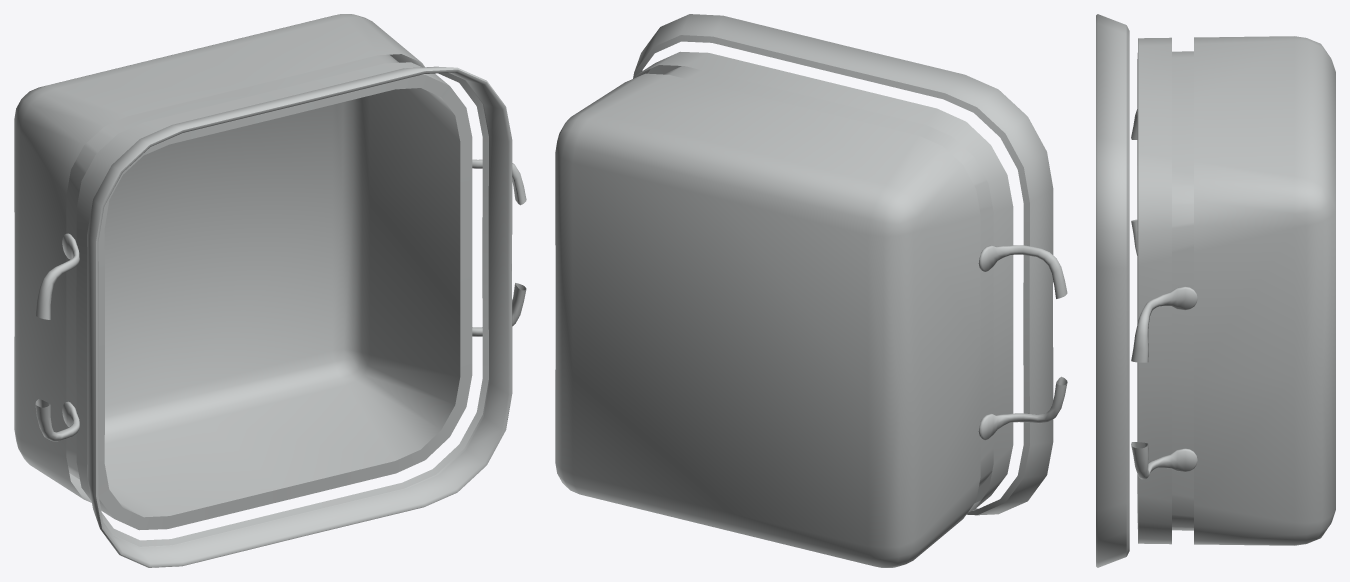
Rendered from MeshPot_28_0_GeomSubset_0.obj.
3 renders of one model, left to right at view 1: azimuth 30°, elevation 25°; view 2: azimuth 150°, elevation 25°; view 3: azimuth 270°, elevation 25°, orthographic. The views are drawn at different scales.
Parts seen in each view (by area): view 1: MeshPot_28_0_GeomSubset_0; view 2: MeshPot_28_0_GeomSubset_0; view 3: MeshPot_28_0_GeomSubset_0.
Part boxes in pixels (box(x1,y1,x2,y2)): MeshPot_28_0_GeomSubset_0: box(14, 14, 526, 567); MeshPot_28_0_GeomSubset_0: box(555, 14, 1067, 567); MeshPot_28_0_GeomSubset_0: box(1096, 14, 1335, 567).
Bounding box in the file's own units: 0.3316 × 0.2843 × 0.1466.
